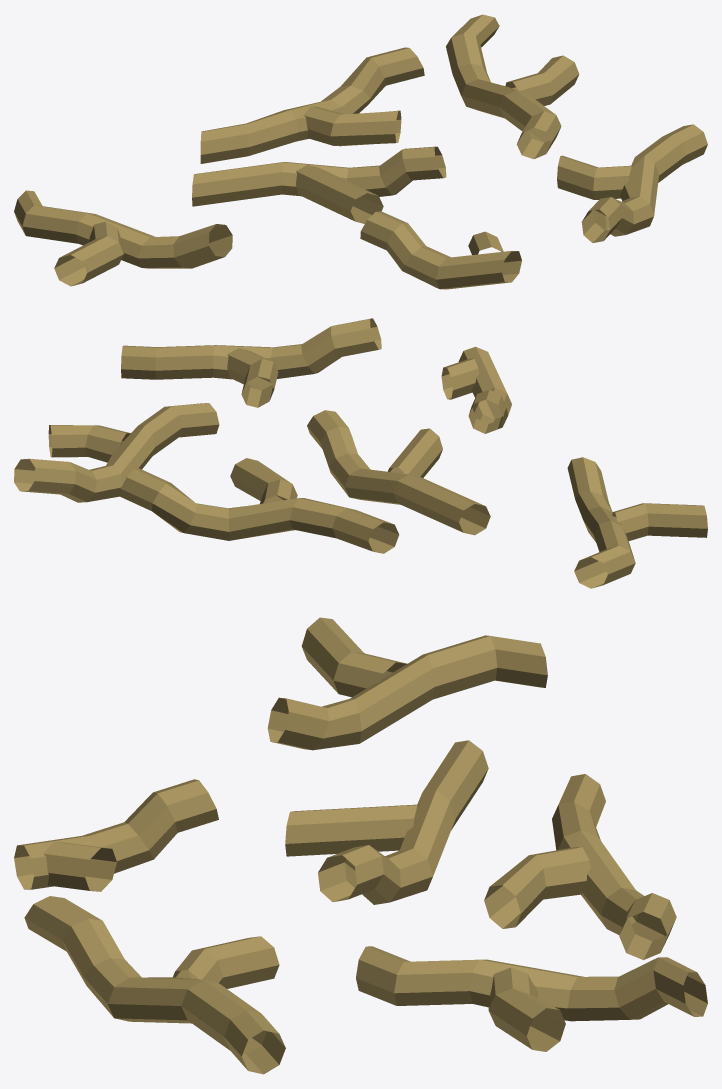
The model's file is 3D_ScatteredSticks-A.fbx.
3 renders of one model, top to bottom at view 1: azimuth 30°, elevation 25°; view 2: azimuth 150°, elevation 25°; view 3: azimuth 270°, elevation 25°, orthographic. The views are drawn at different scales.
Visible parts, largest first — view 1: Circle.002; view 2: Circle.002; view 3: Circle.002.
Part boxes in pixels (<box>): Circle.002: <box>14,14,707,289</box>; Circle.002: <box>14,318,707,588</box>; Circle.002: <box>14,617,707,1074</box>.
Size of the model in its own units: 166 by 14.44 by 115.
1 material, 1 textured.
